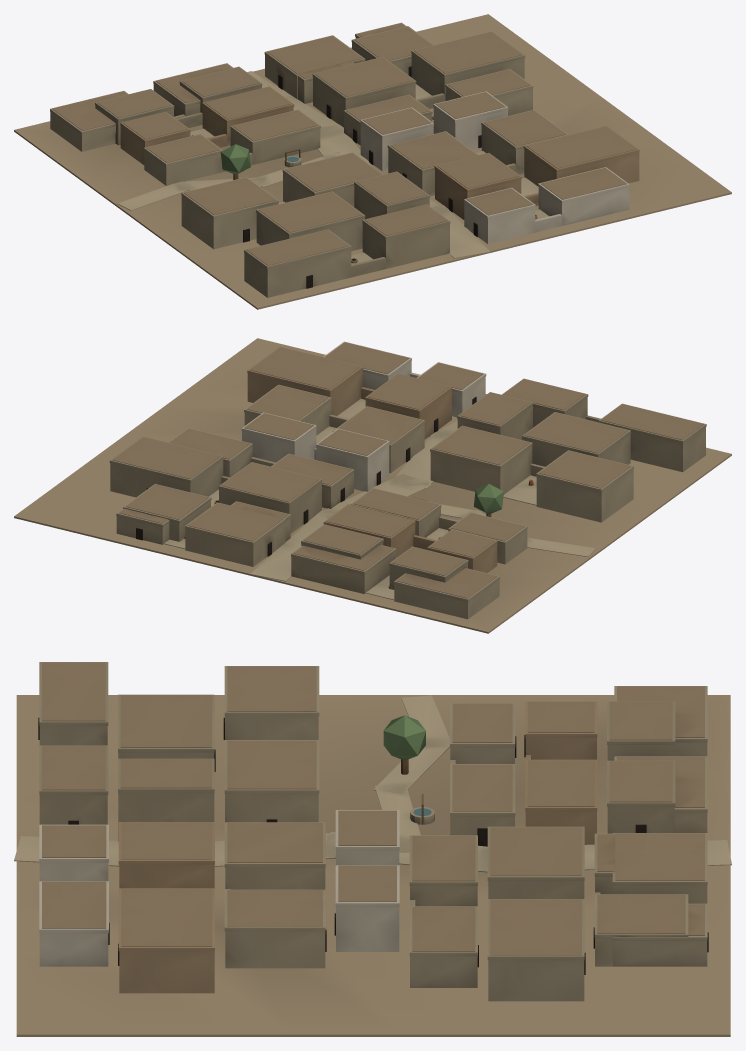
The model's file is bhir-quarter.glb.
3 renders of one model, top to bottom at view 1: azimuth 30°, elevation 25°; view 2: azimuth 150°, elevation 25°; view 3: azimuth 270°, elevation 25°, orthographic. The views are drawn at different scales.
Visible parts, largest first — view 1: p1_houses, p0_ground, p2_well; view 2: p1_houses, p0_ground, p2_well; view 3: p1_houses, p0_ground, p2_well.
Boxes of the visible parts, x1,y1,x2,y2 form: p1_houses: (50, 22, 639, 297); p0_ground: (14, 14, 731, 309); p2_well: (174, 84, 561, 277); p1_houses: (109, 341, 706, 619); p0_ground: (14, 338, 731, 633); p2_well: (164, 372, 600, 599); p1_houses: (38, 662, 708, 1001); p0_ground: (14, 695, 731, 1036); p2_well: (225, 715, 600, 906).
Bounding box in the file's own units: 90 × 7.58 × 80.44.
